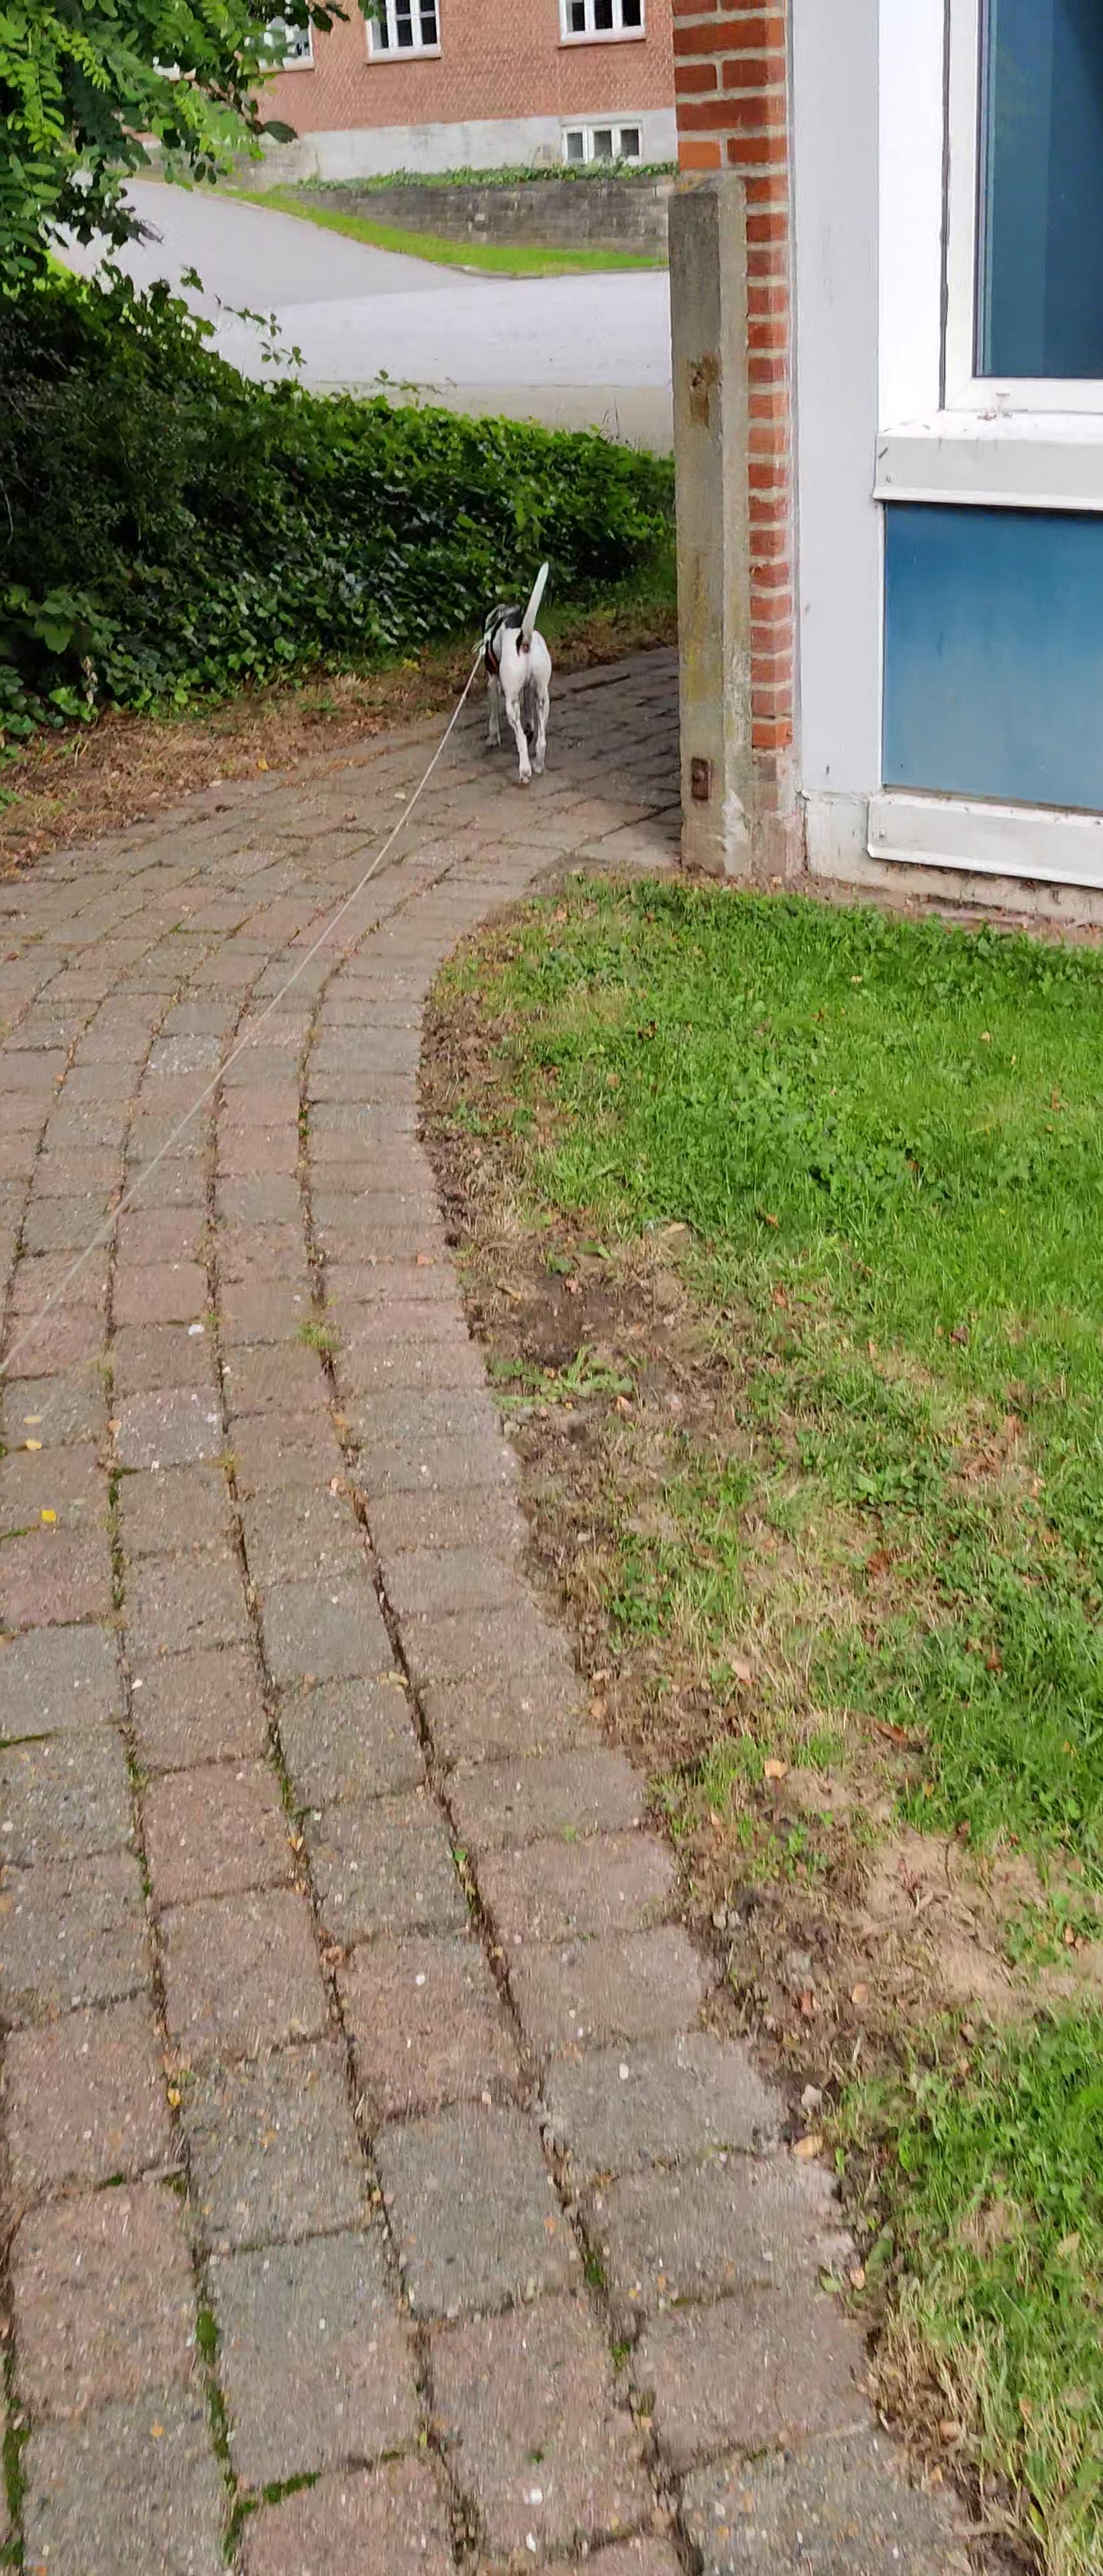Dog: (445, 545, 585, 815)
